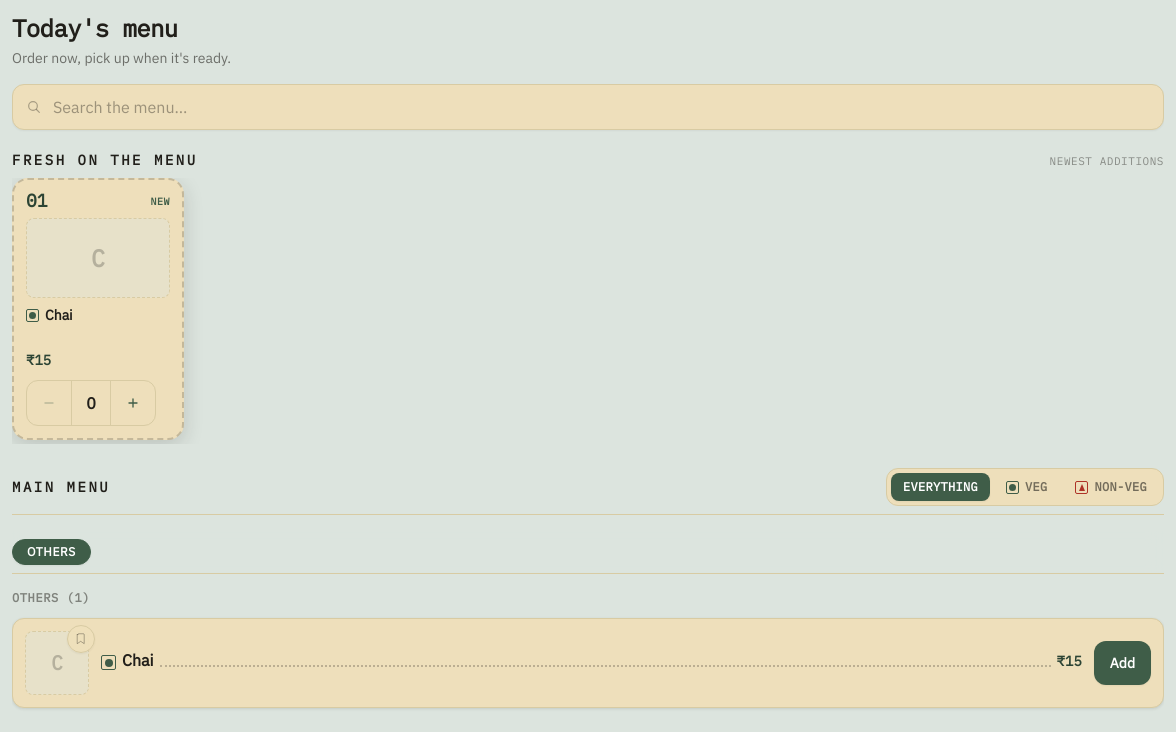
Test: Menu row — Add control collapses the stepper until qty > 0 (STATUS.md § 9.9-Y4) › tapping Add sets qty to 1 and swaps in the full stepper
expect the text "Chai" below "01" is shown: met, box x1=45 y1=306 x2=73 y2=324
Type "Chai" into the search field labelled "Search the menu" at [588, 107], box x1=12 y1=84 x2=1164 y2=130
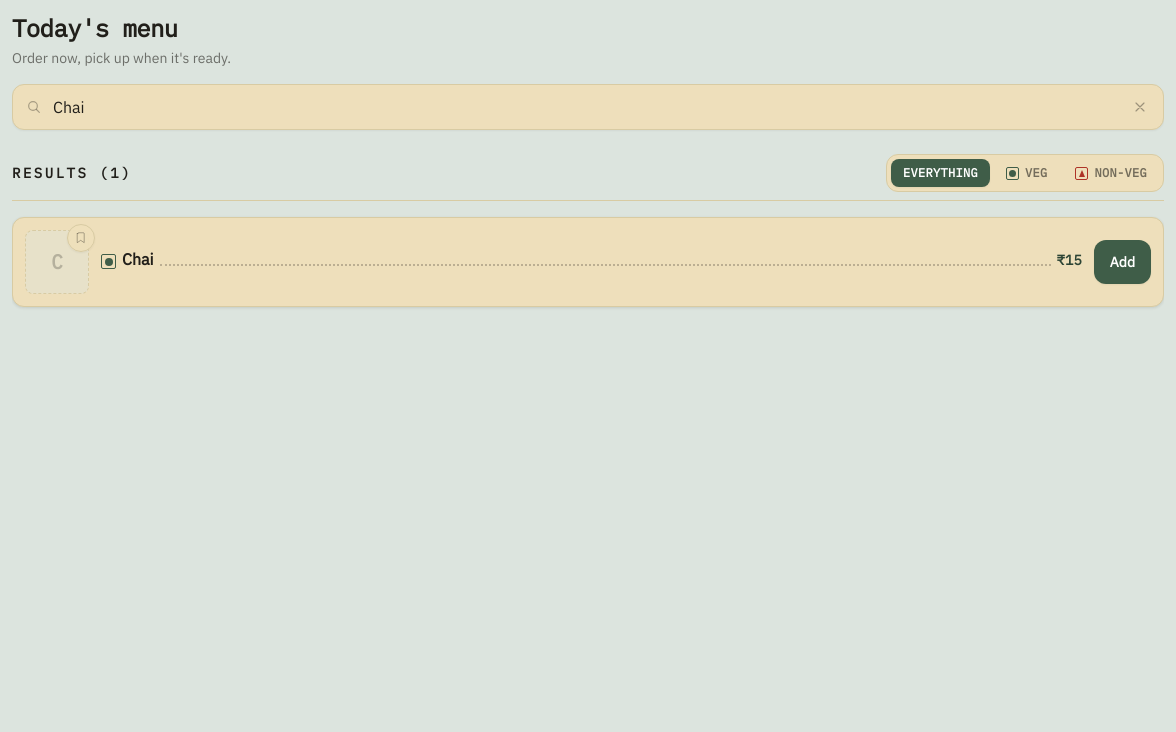
expect the heading "Results (1)" is shown: met, box x1=12 y1=163 x2=132 y2=183
Click the button with aria-label "Add Chai" at [1122, 262], box x1=1094 y1=240 x2=1151 y2=284
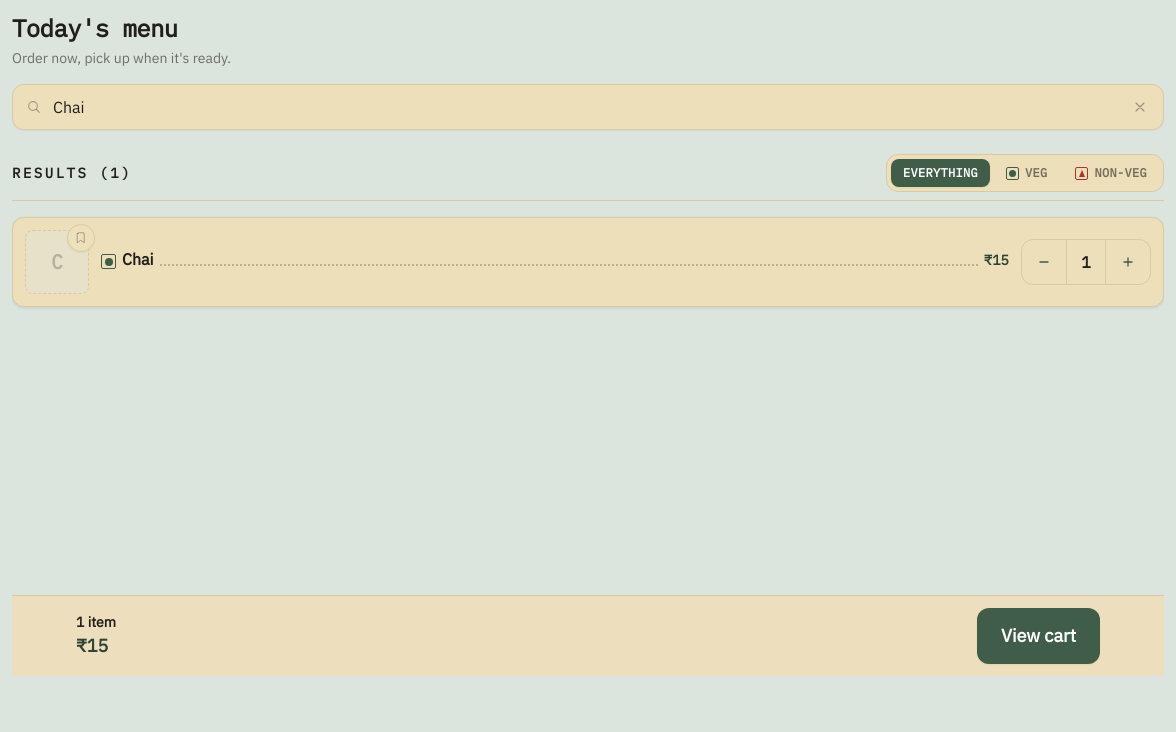
expect the field labelled "Add Chai" is not shown: met
expect the button named "Decrease quantity" is shown: met, box x1=1022 y1=240 x2=1066 y2=284
expect the button named "Increase quantity" is shown: met, box x1=1106 y1=240 x2=1150 y2=284
